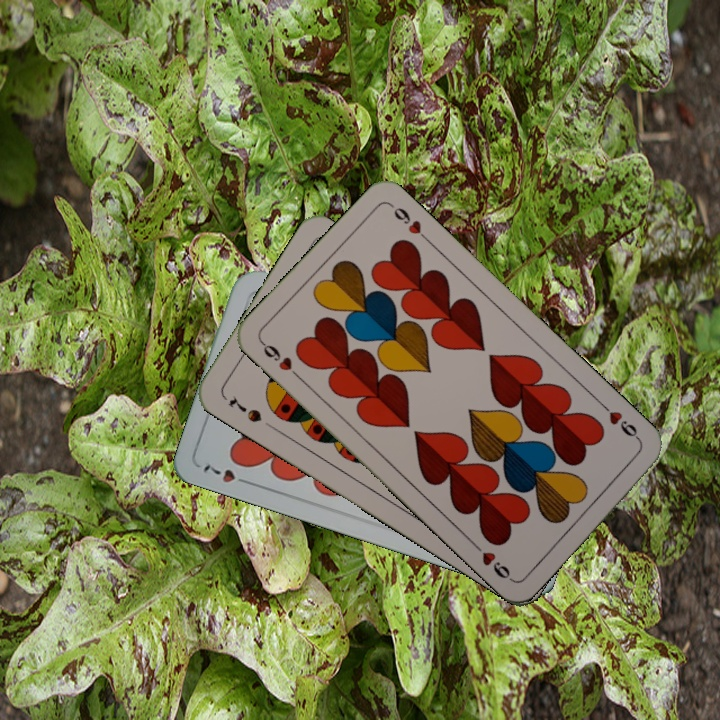H7: (199, 460, 254, 487)
H9: (597, 399, 644, 445), (257, 337, 304, 382)
S7: (223, 392, 265, 425)
